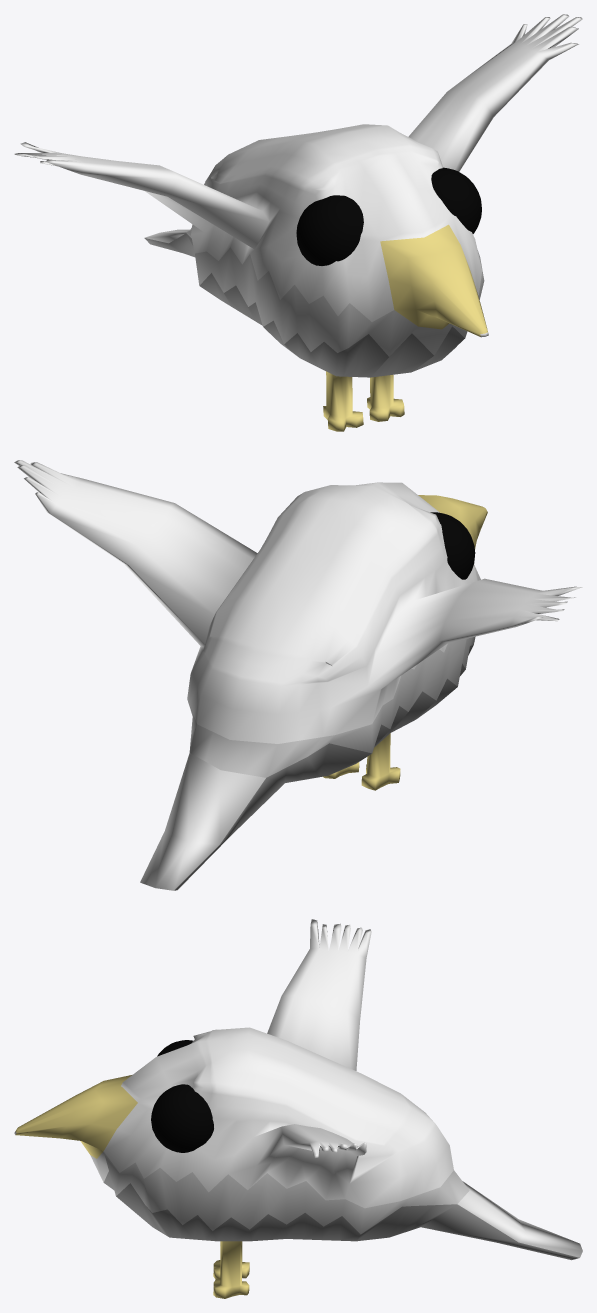
Rendered from Birdy.fbx.
The picture shows the model from 3 angles, top to bottom: view 1: azimuth 30°, elevation 25°; view 2: azimuth 150°, elevation 25°; view 3: azimuth 270°, elevation 25°; orthographic projection. The views are drawn at different scales.
Parts seen in each view (by area): view 1: Cube.001, Sphere, Sphere.001; view 2: Cube.001, Sphere; view 3: Cube.001, Sphere.001.
Part boxes in pixels (left/top/right/bottom): Cube.001: left=14, top=14, right=582, bottom=431; Sphere: left=296, top=195, right=363, bottom=265; Sphere.001: left=431, top=167, right=481, bottom=233; Cube.001: left=14, top=460, right=582, bottom=890; Sphere: left=430, top=512, right=475, bottom=579; Cube.001: left=14, top=919, right=582, bottom=1298; Sphere.001: left=151, top=1084, right=213, bottom=1152.
Size of the model in its own units: 0.0972 by 0.0487 by 0.0993.
